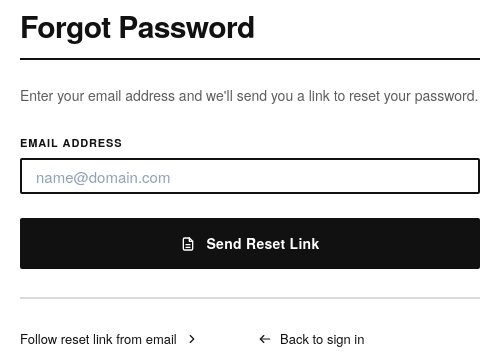
Test: ForgotPassword screen › [AC-009] submits the email to POST /auth/password-reset/request and shows the neutral confirmation from the response
This screenshot has width=501, height=364.
Type "someone@example.com" into the field labelled "Email address" at (250, 176), box [20,158,480,194]
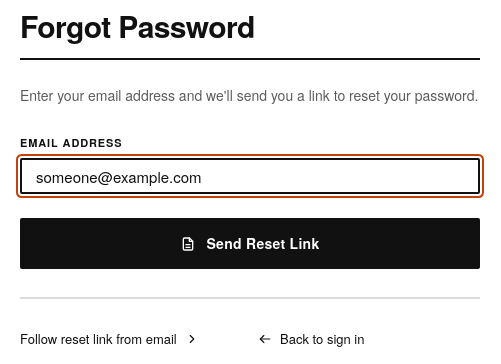
Click the button "Send Reset Link" at (250, 244), box [20,218,480,269]
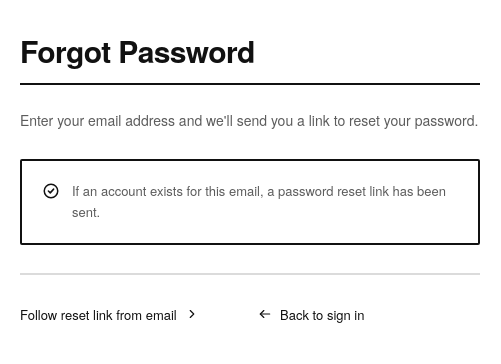
Now the text "If an account exists for this email, a password reset link has been sent." is shown, box [72,181,458,223]
